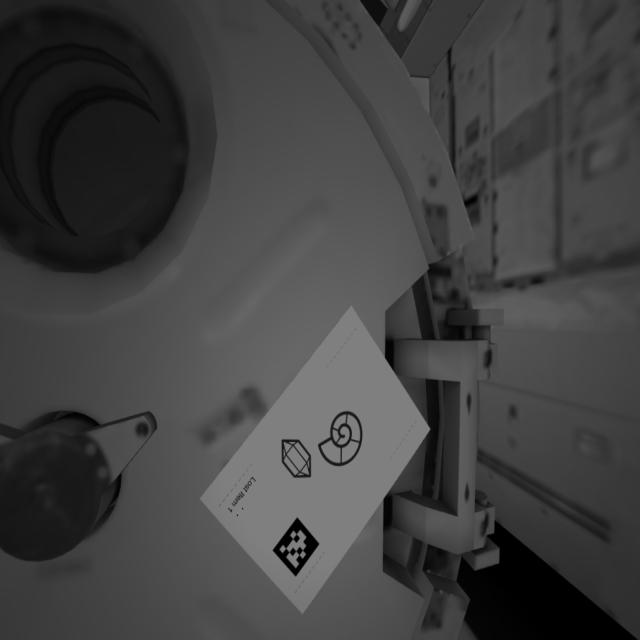fossil: (316, 409, 370, 471)
